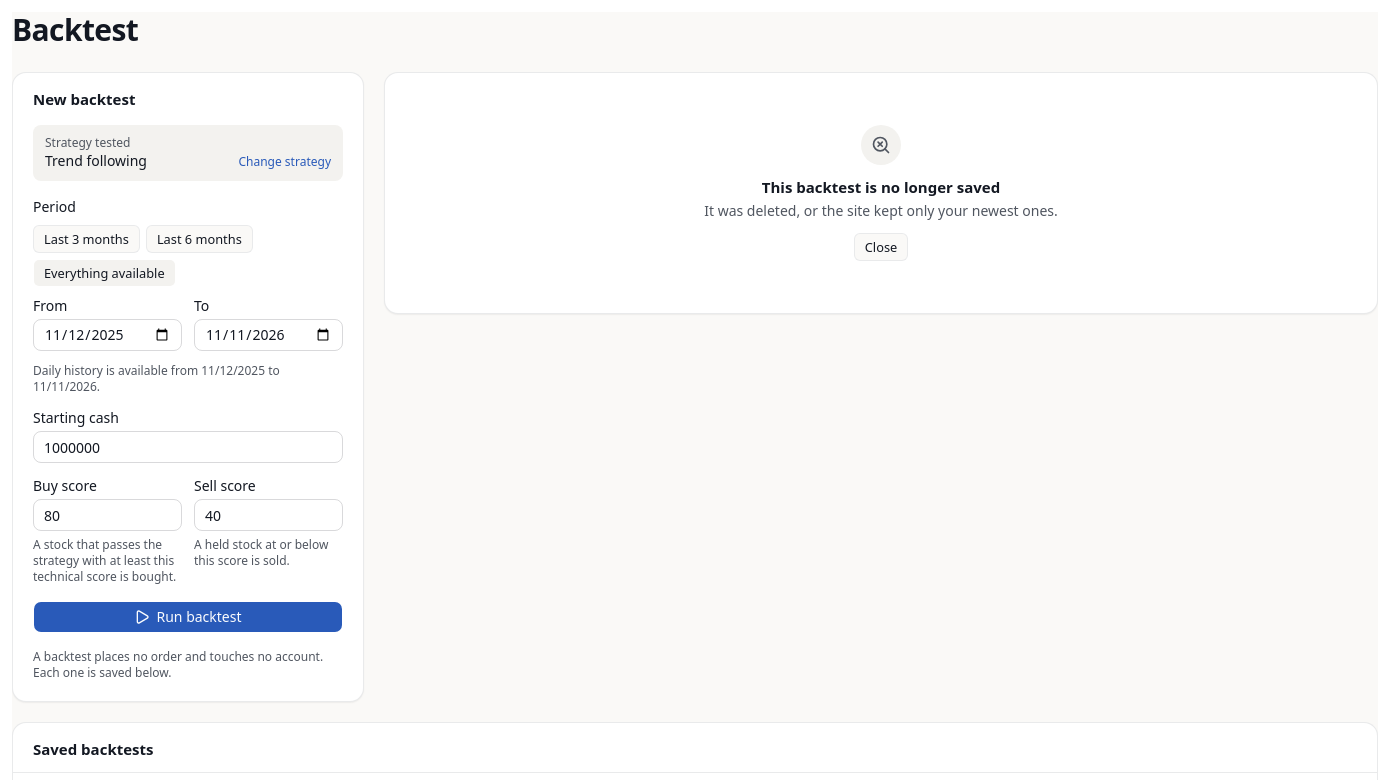
the backtest page › says a saved backtest that is gone is gone
This screenshot has width=1378, height=780.
Check: the text "This backtest is no longer saved" is shown, box [762,177,1000,197]
Click the button "Close" at (881, 247), box [854,233,908,261]
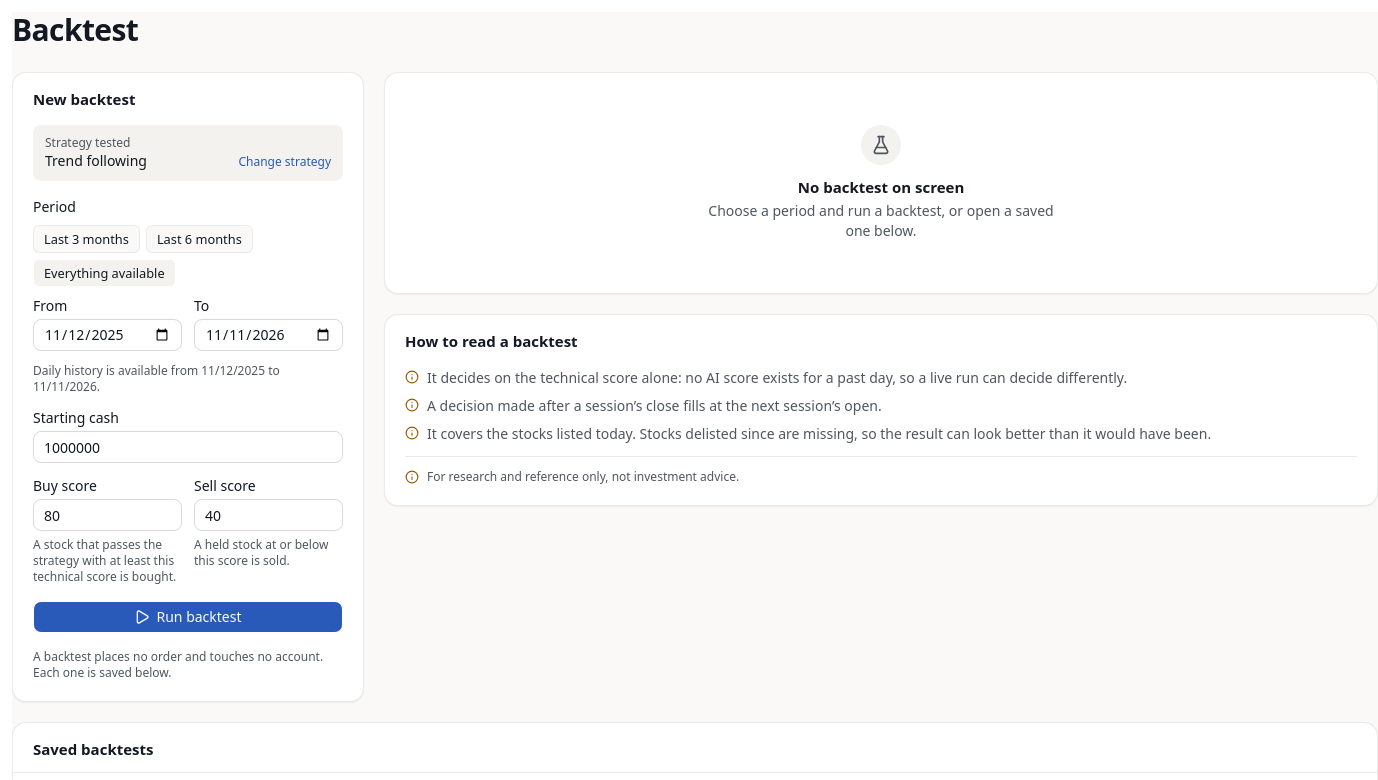
Check: the text "No backtest on screen" is shown, box [798,177,964,197]
